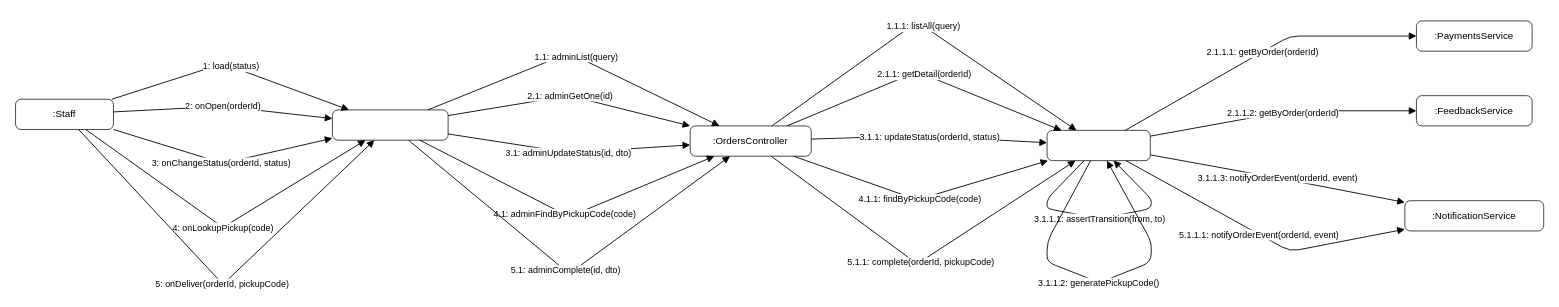
Image size: 1559x307. Some labels were removed from this diagram. Here are the shapes that lost their labels. From the top down, the box of each, then its label:
(332, 109, 448, 140): :AdminOrdersPage
(1046, 129, 1150, 161): :OrdersService
